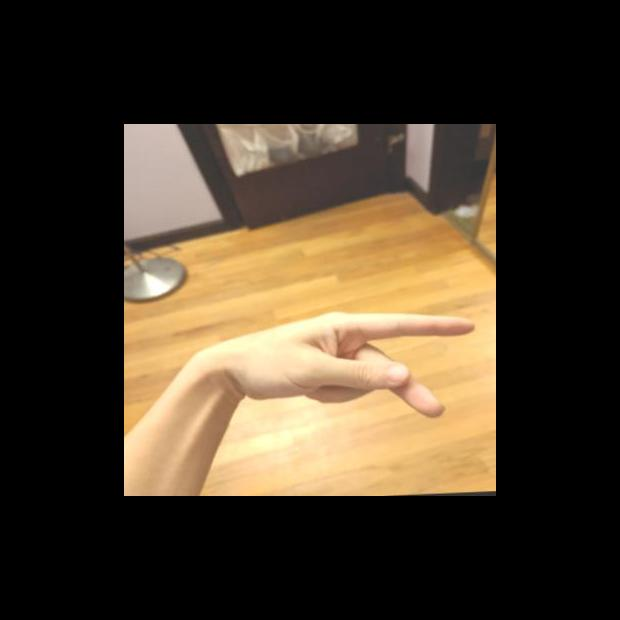O: (236, 303, 483, 430)
